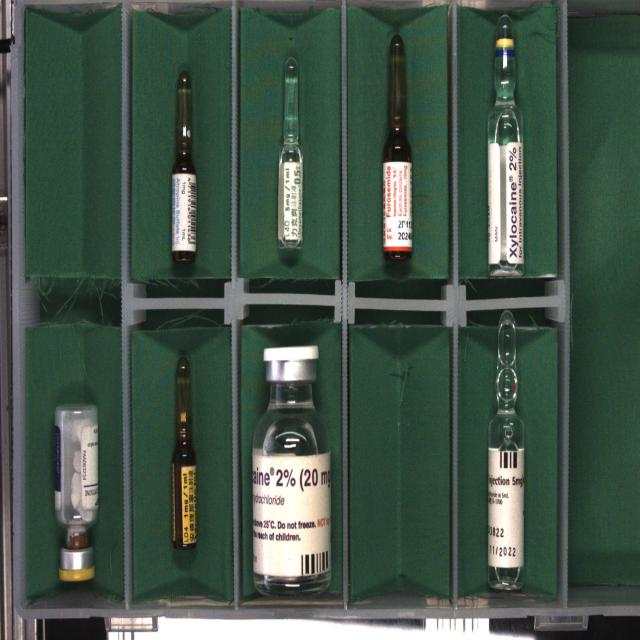Vials: (251, 346, 331, 594), (55, 405, 98, 582)
